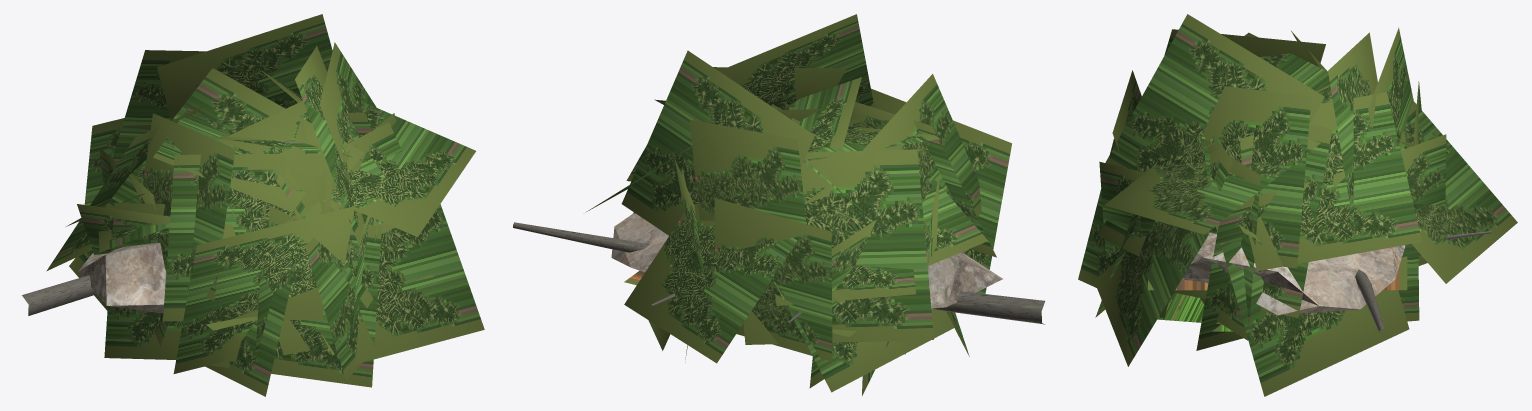
File: ground_detail.glb
3 views of the same model, side by side, from view 1: azimuth 30°, elevation 25°; view 2: azimuth 150°, elevation 25°; view 3: azimuth 270°, elevation 25° (orthographic). The views are drawn at different scales.
Parts seen in each view (by area): view 1: bush, rock3, branch; view 2: bush, rock3, branch; view 3: bush, rock3, fern, branch, litter.
Part boxes in pixels (bbox=[...]): bush: bbox=[46, 14, 484, 396]; rock3: bbox=[78, 242, 166, 313]; branch: bbox=[22, 275, 96, 315]; bush: bbox=[586, 14, 1011, 395]; rock3: bbox=[611, 213, 1002, 308]; branch: bbox=[513, 222, 1045, 324]; bush: bbox=[1078, 14, 1517, 396]; rock3: bbox=[1182, 232, 1405, 315]; fern: bbox=[1157, 292, 1232, 331]; branch: bbox=[1355, 231, 1491, 332]; litter: bbox=[1148, 256, 1407, 290].
Bounding box in the file's own units: 2.56 × 1.51 × 2.04.
Materials: 3 (3 with a texture image).
